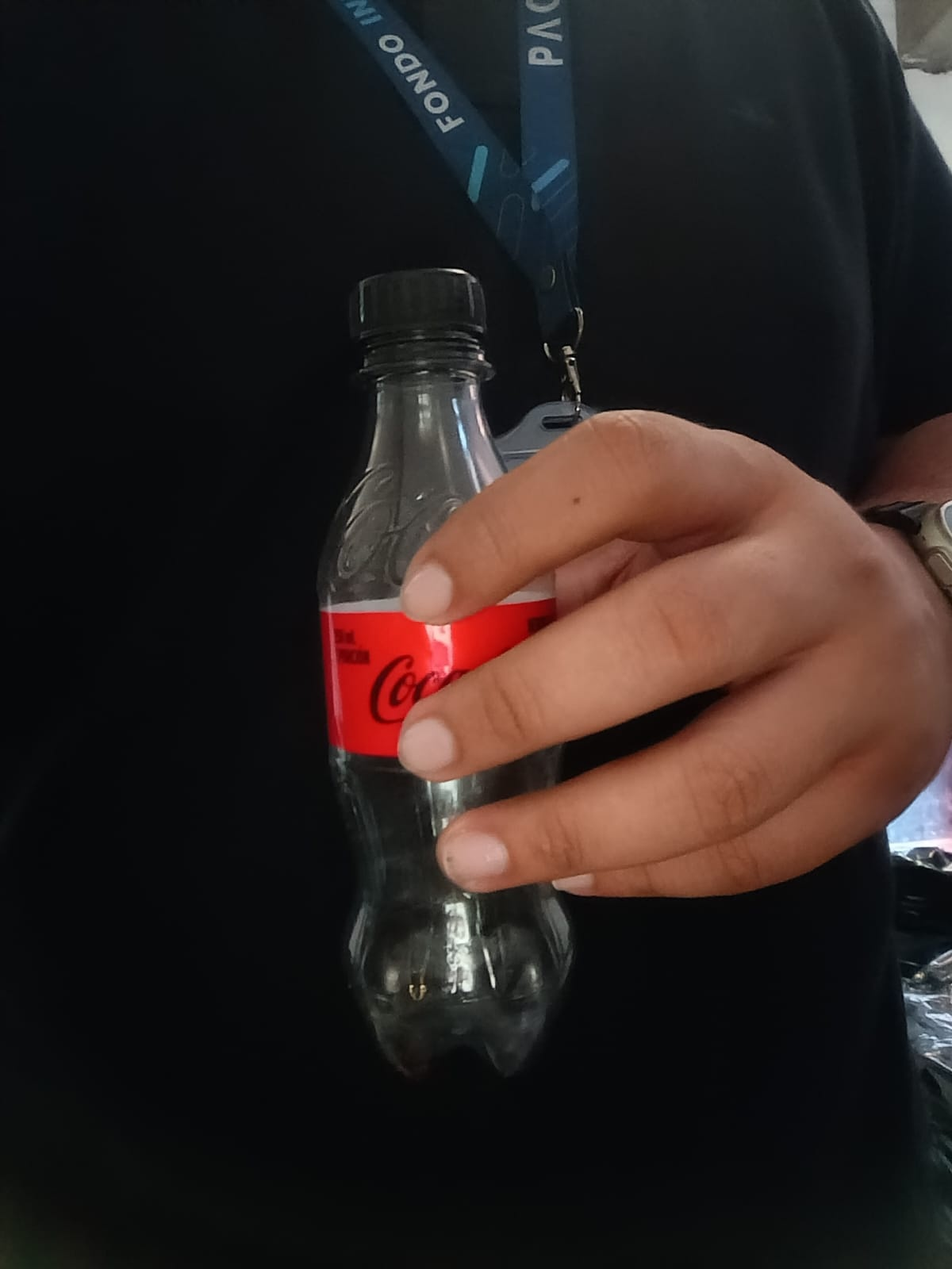Plastico: (320, 267, 574, 1087)
